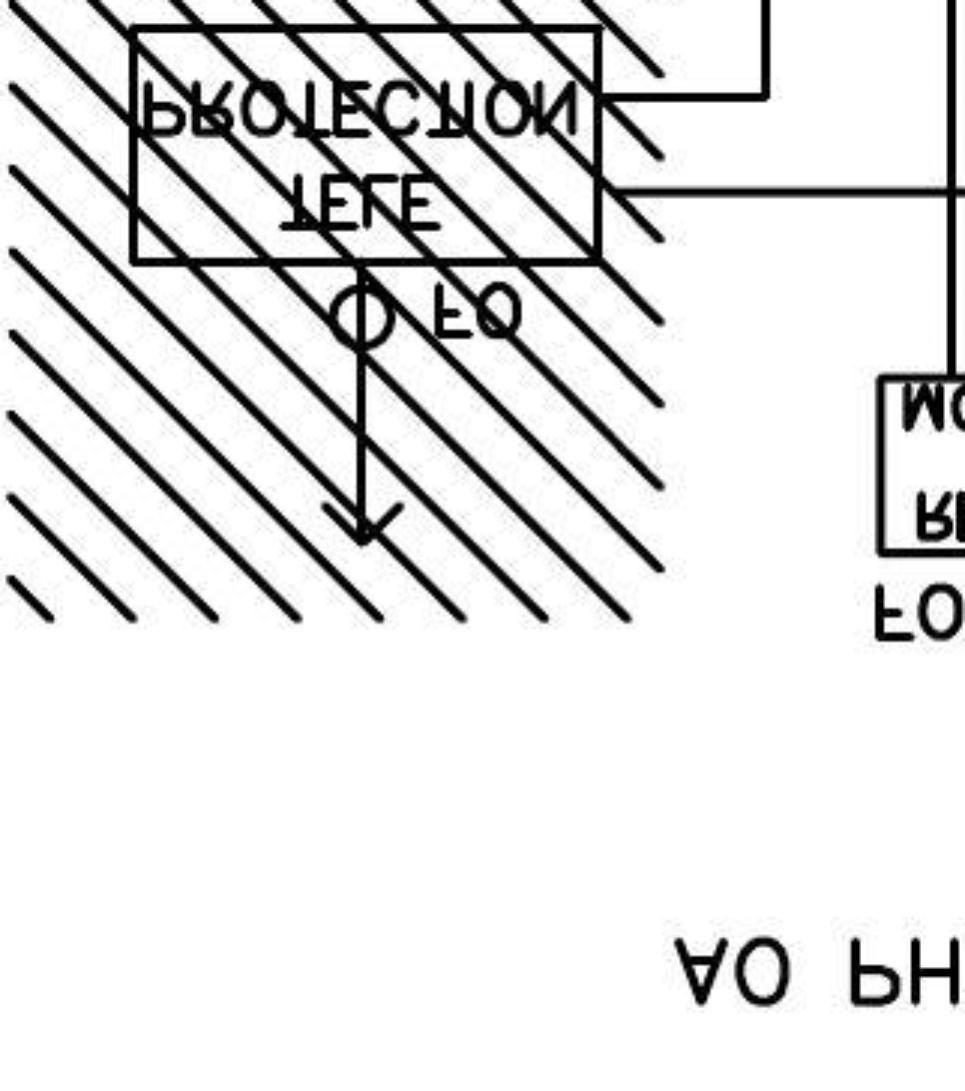tele_protection: (120, 14, 610, 273)
